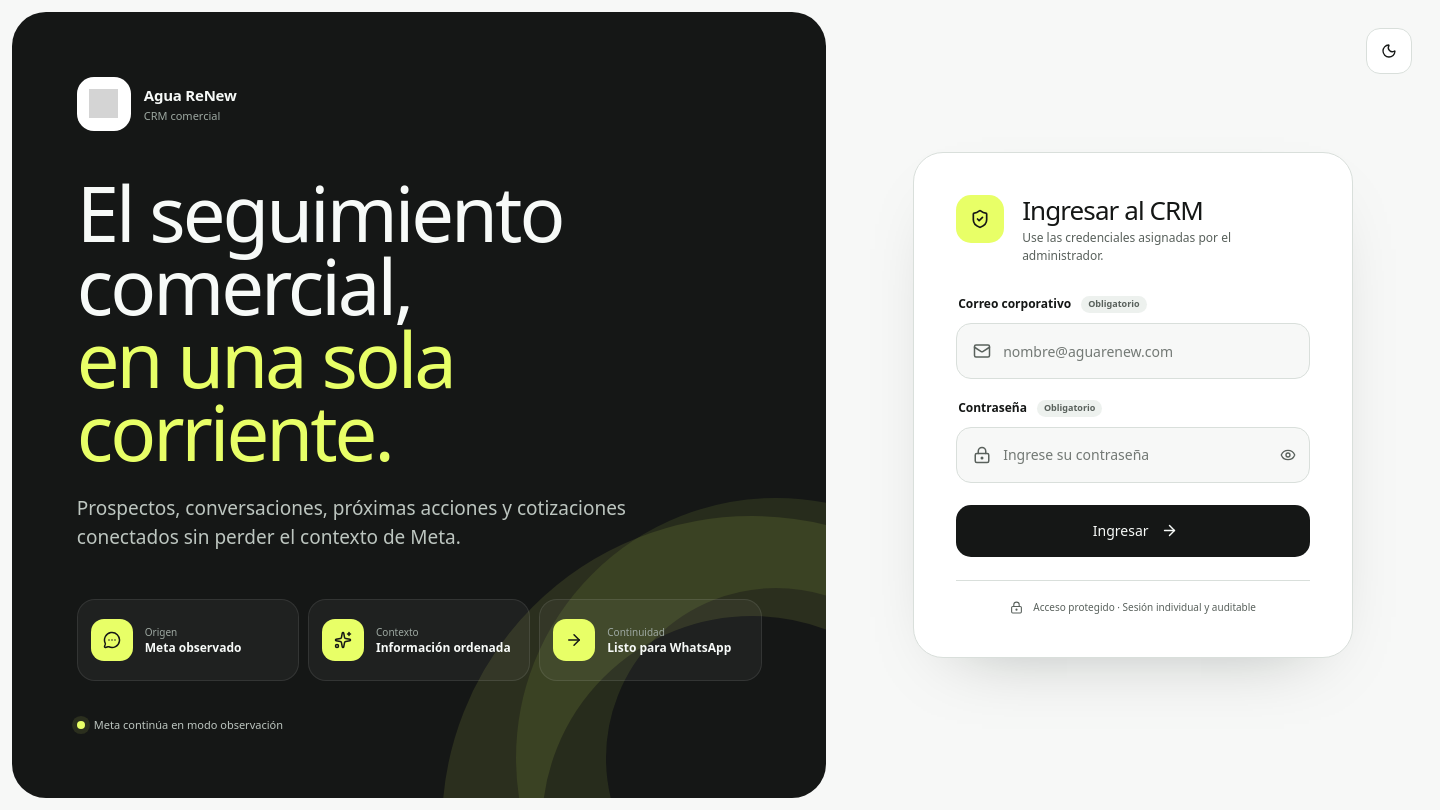
Login › cambia y persiste el tema desde el acceso
The image size is (1440, 810).
Click the button named "Usar tema oscuro". click: (1389, 51)
box: [1366,28,1412,74]
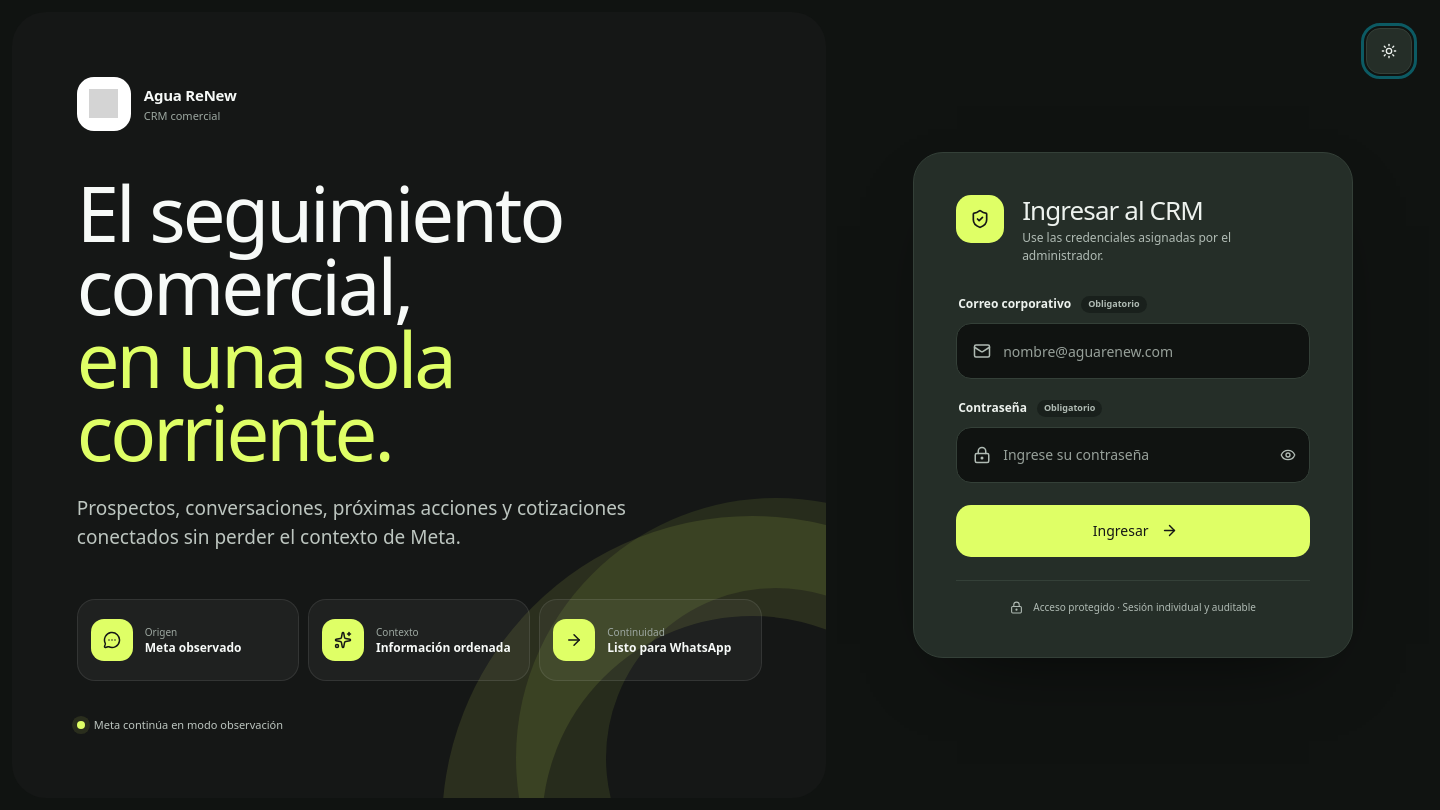
Expected: the button named "Usar tema claro" is shown, [1366,28,1412,74]
